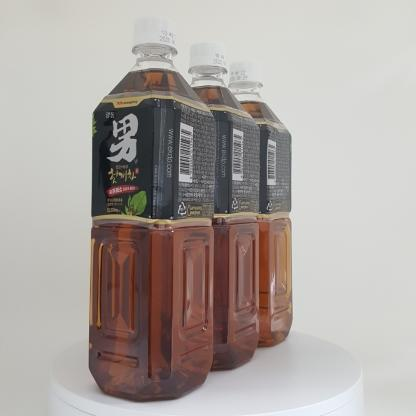----------1L: (88, 15, 216, 402)
